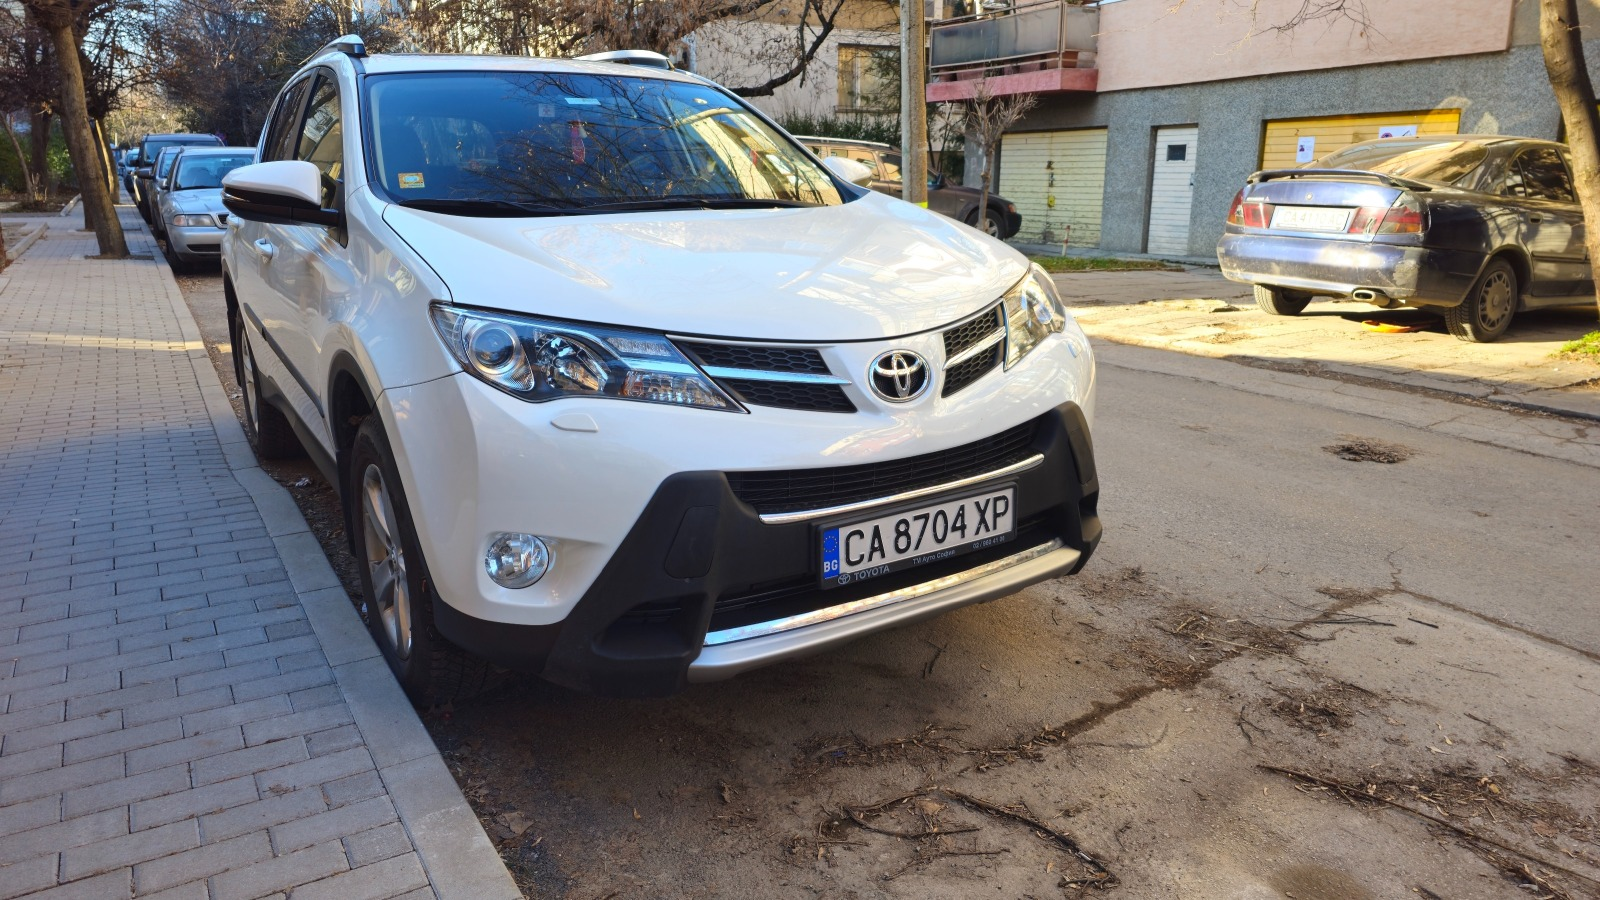registration_plate: (818, 485, 1019, 592)
